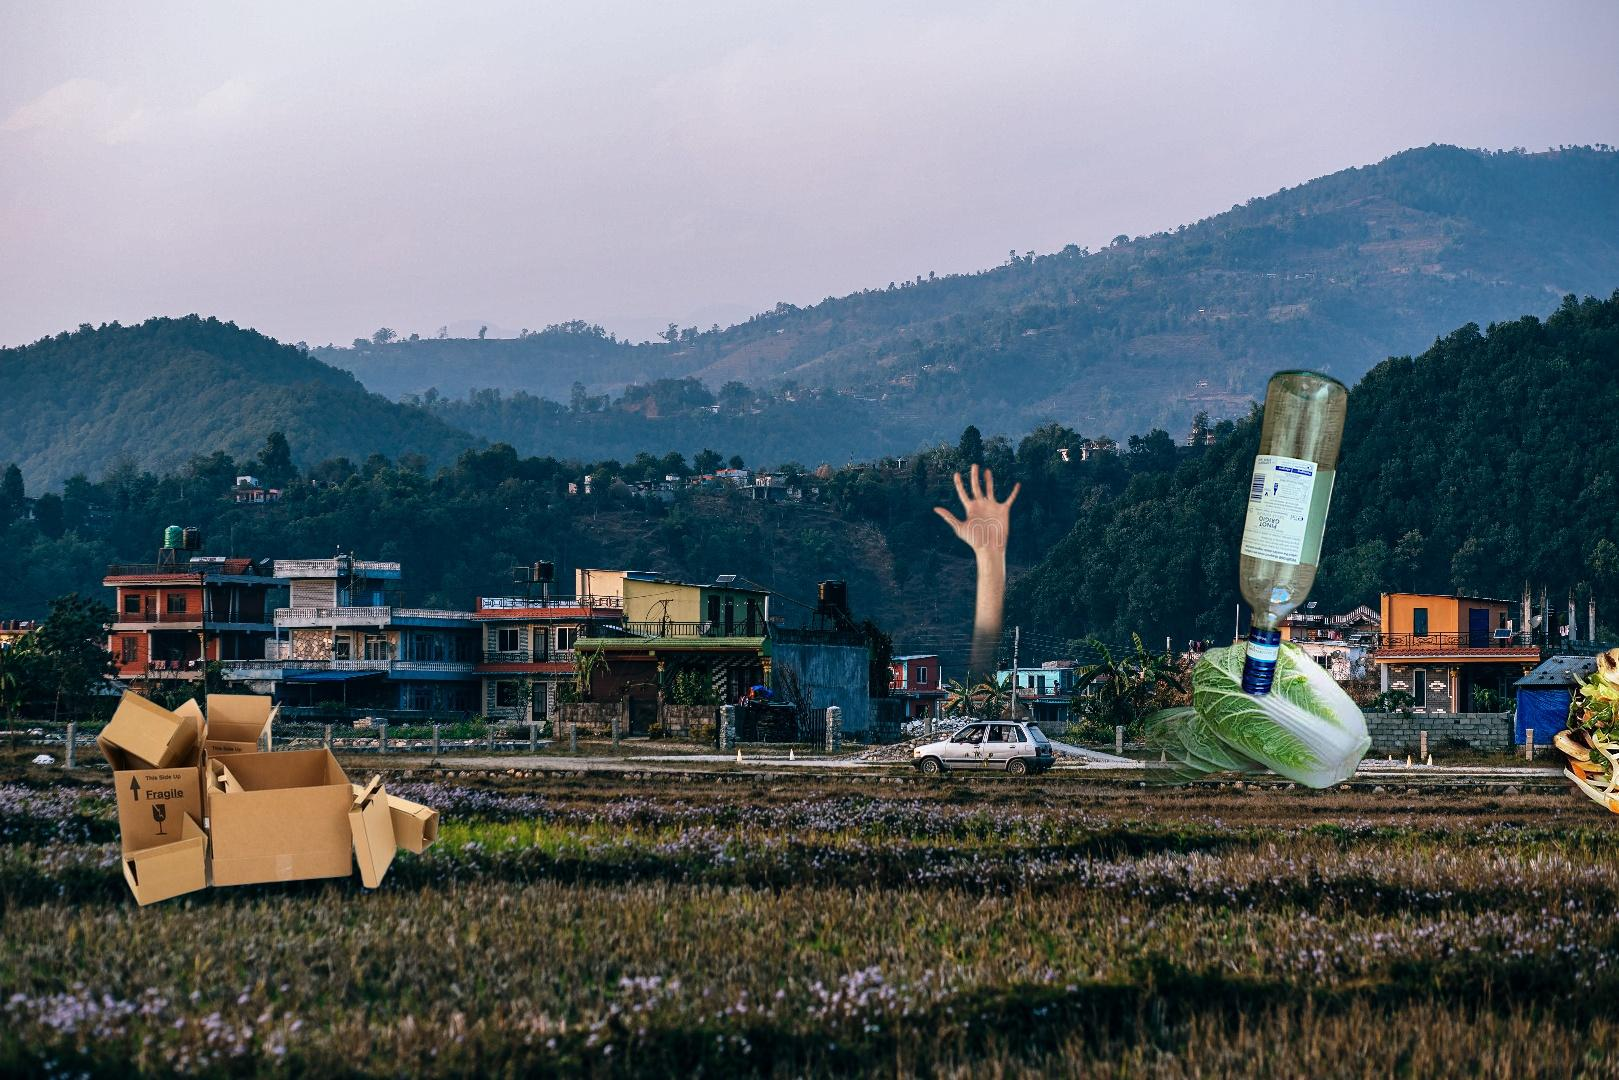biological: (1145, 629, 1377, 806), (1533, 541, 1619, 829)
glass: (1234, 365, 1353, 703)
trashbox-cardboard: (651, 458, 1300, 785), (92, 685, 442, 908)
